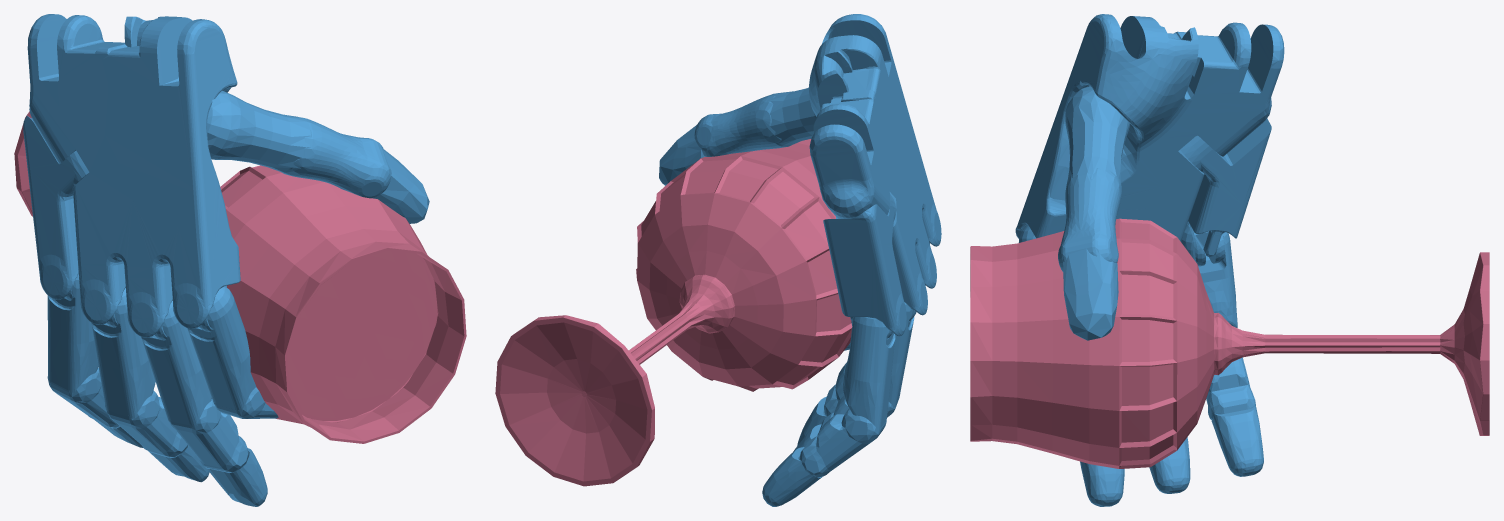
The picture shows the model from 3 angles, left to right: view 1: azimuth 30°, elevation 25°; view 2: azimuth 150°, elevation 25°; view 3: azimuth 270°, elevation 25°; orthographic projection. The views are drawn at different scales.
Parts seen in each view (by area): view 1: 1; view 2: 1; view 3: 1.
Boxes of the visible parts, x1,y1,x2,y2 form: 1: (14,14,466,506); 1: (495,14,941,506); 1: (970,14,1489,506).
Size of the model in its own units: 0.1368 by 0.2012 by 0.2031.
